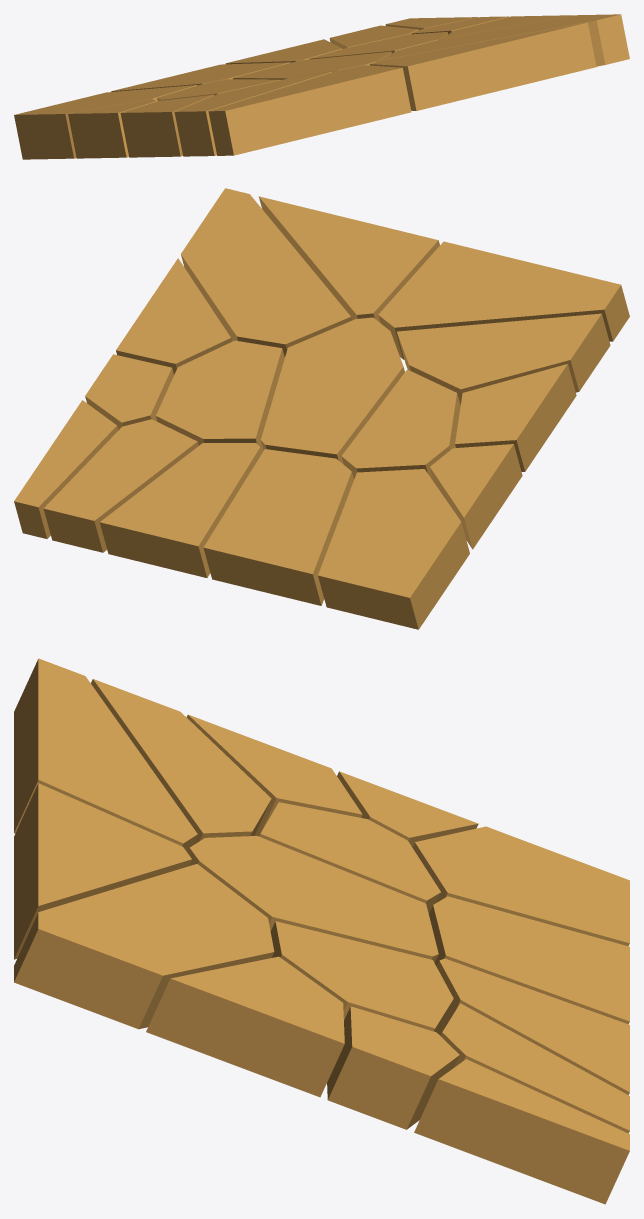
Rendered from Australia.glb.
3 views of the same model, one above another, from view 1: azimuth 30°, elevation 25°; view 2: azimuth 150°, elevation 25°; view 3: azimuth 270°, elevation 25° (orthographic). The views are drawn at different scales.
Parts seen in each view (by area): view 1: Mesh_Mesh_head_geo.001_lambert2SG.001; view 2: Mesh_Mesh_head_geo.001_lambert2SG.001; view 3: Mesh_Mesh_head_geo.001_lambert2SG.001.
Part boxes in pixels (x1,y1,x2,y2): Mesh_Mesh_head_geo.001_lambert2SG.001: [14, 14, 629, 159]; Mesh_Mesh_head_geo.001_lambert2SG.001: [14, 188, 629, 629]; Mesh_Mesh_head_geo.001_lambert2SG.001: [14, 658, 629, 1204].
Size of the model in its own units: 0.02 by 0.0095 by 0.0192.
